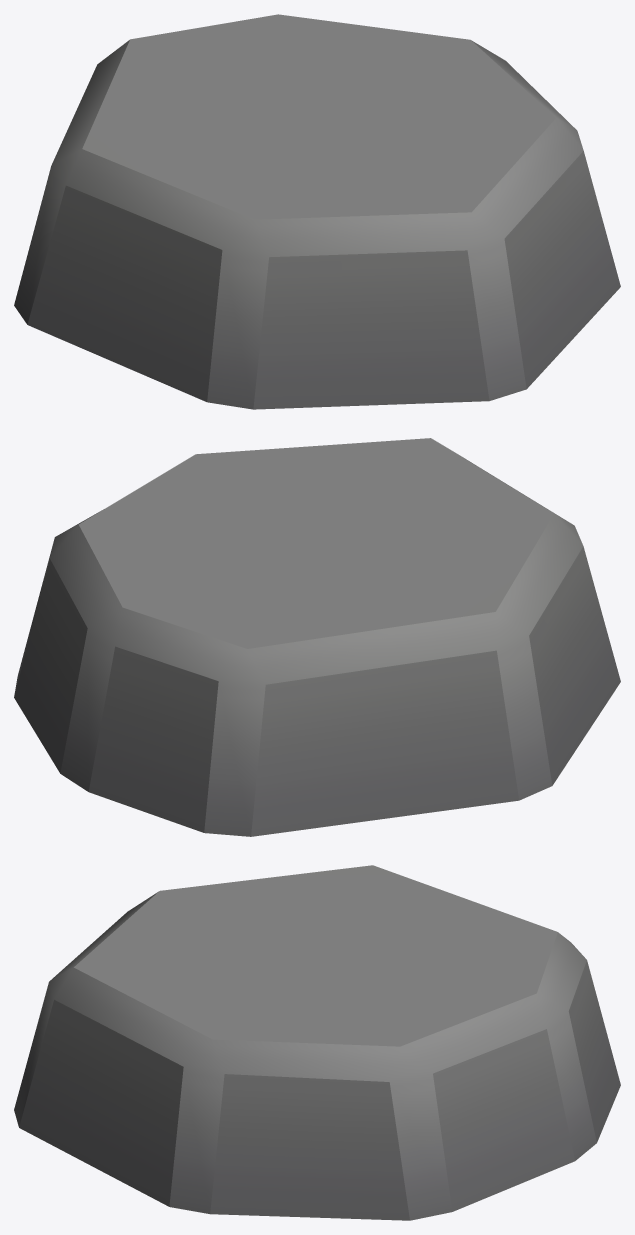
File: Rock_2_A.fbx
3 renders of one model, top to bottom at view 1: azimuth 30°, elevation 25°; view 2: azimuth 150°, elevation 25°; view 3: azimuth 270°, elevation 25°, orthographic. The views are drawn at different scales.
Visible parts, largest first — view 1: Rock_2_A; view 2: Rock_2_A; view 3: Rock_2_A.
Part boxes in pixels (x1=…): Rock_2_A: x1=14, y1=14, x2=620, y2=409; Rock_2_A: x1=14, y1=438, x2=620, y2=836; Rock_2_A: x1=14, y1=865, x2=620, y2=1220.
Size of the model in its own units: 56.81 by 17.04 by 62.92.
